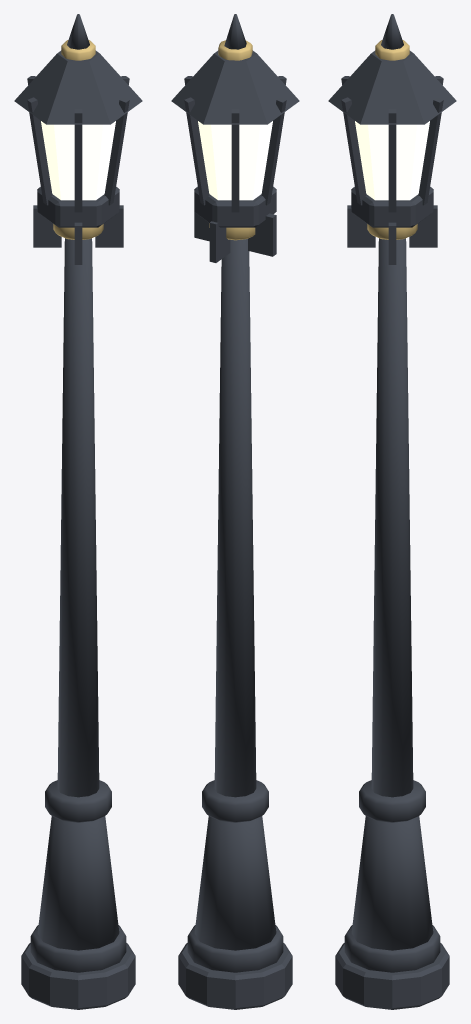
Rendered from prop_streetlamp.glb.
3 renders of one model, left to right at view 1: azimuth 90°, elevation 25°; view 2: azimuth 150°, elevation 25°; view 3: azimuth 270°, elevation 25°, orthographic.
Visible parts, largest first — view 1: Prop_StreetLamp; view 2: Prop_StreetLamp; view 3: Prop_StreetLamp.
Boxes of the visible parts, x1,y1,x2,y2 form: Prop_StreetLamp: (14,14,142,1009); Prop_StreetLamp: (171,14,299,1009); Prop_StreetLamp: (328,14,456,1009).
Size of the model in its own units: 0.48 by 4.5 by 0.54.
